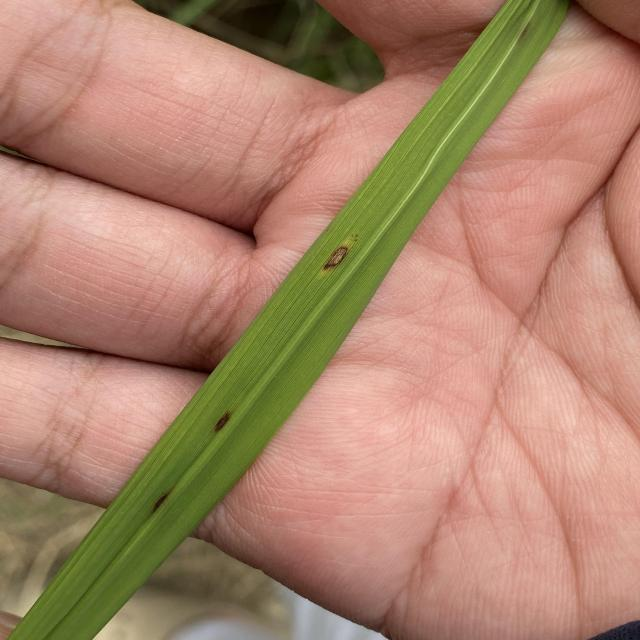Dom nau: (324, 246, 349, 269), (211, 410, 233, 435), (148, 493, 171, 516)
